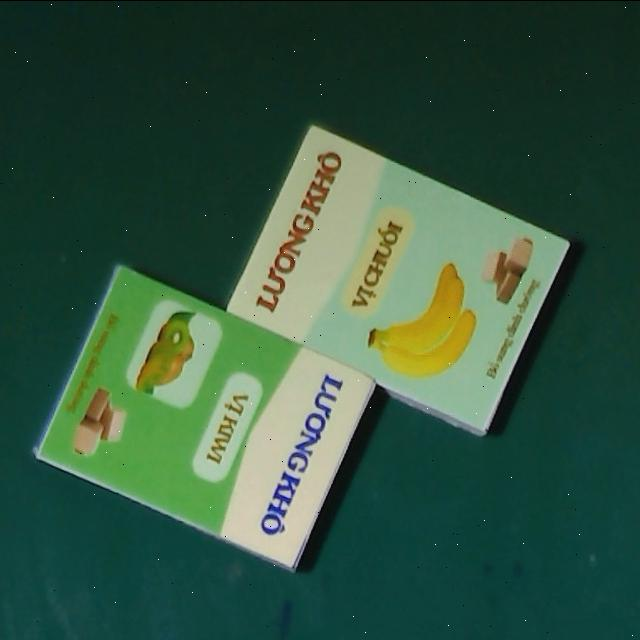chuoi: (223, 125, 572, 438)
kiwi: (32, 265, 379, 573)
